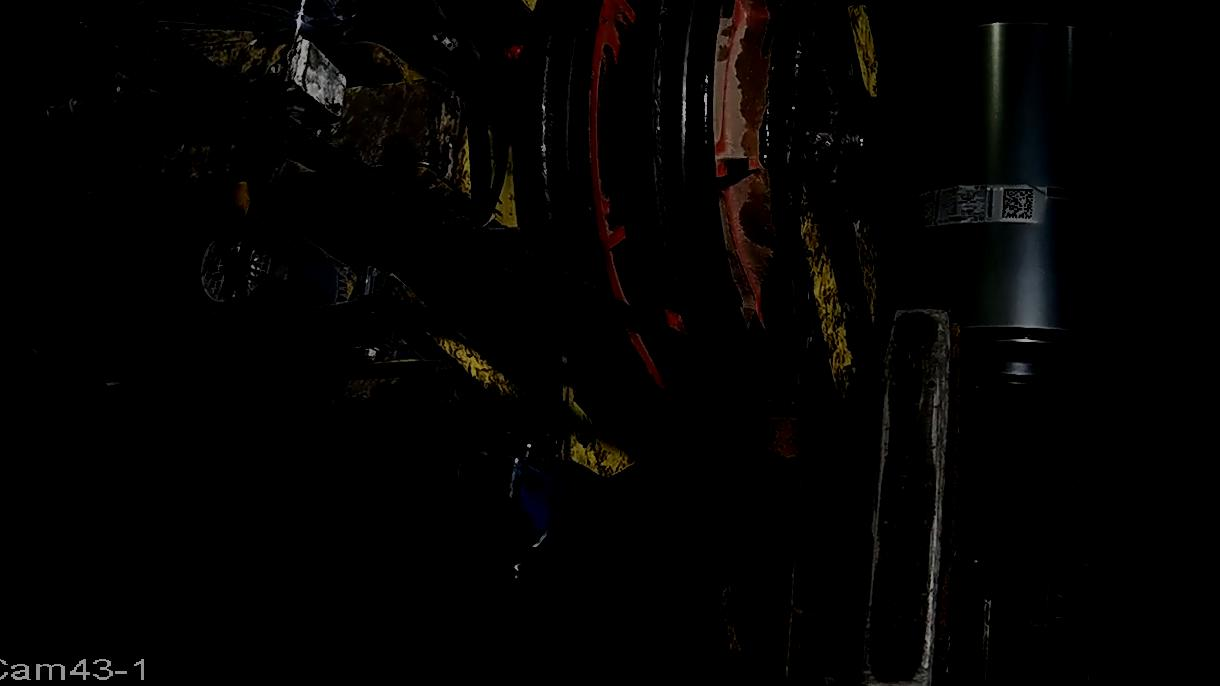data matrix: (999, 184, 1042, 226)
